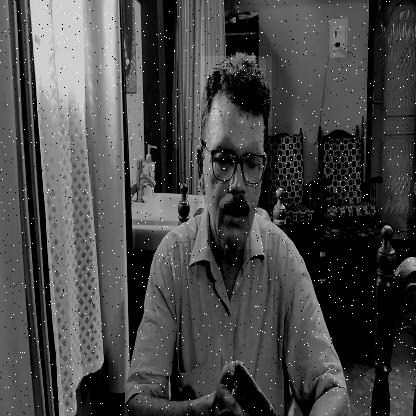Normal: (201, 56, 272, 249)
